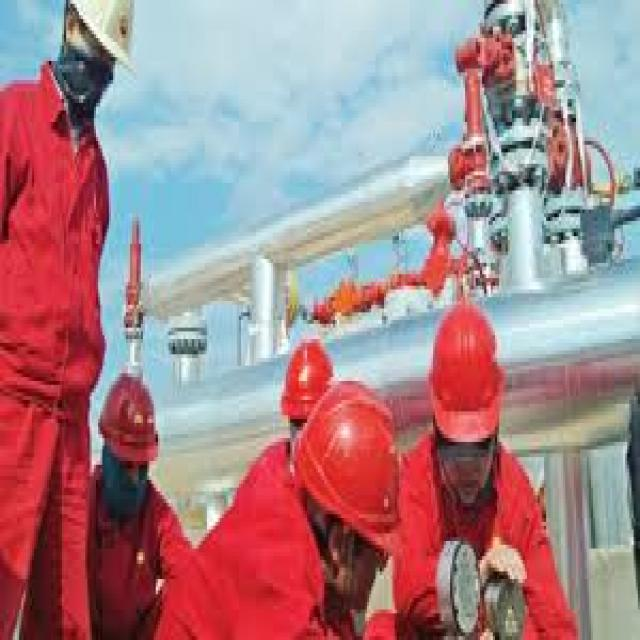Reflective-Jacket: (0, 65, 115, 484), (395, 453, 546, 640)
Safety-Helmet: (292, 377, 403, 556), (418, 294, 514, 454), (96, 366, 164, 472), (62, 0, 145, 72), (275, 335, 337, 427)
